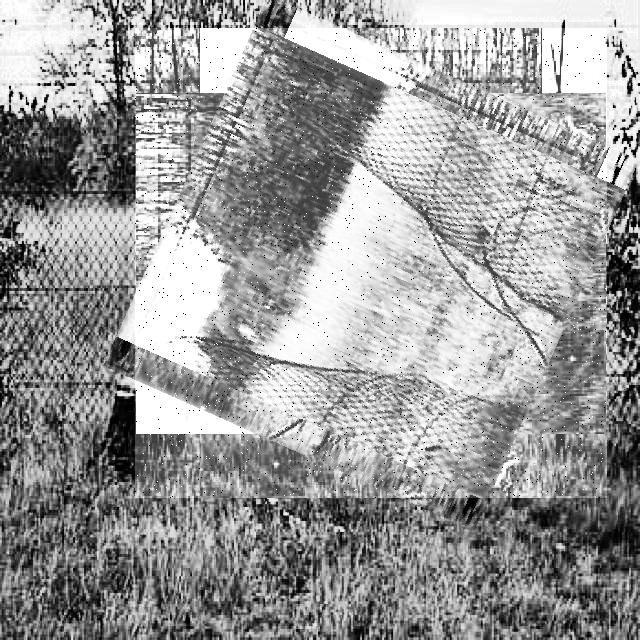anomaly-fence: (135, 28, 607, 498)
